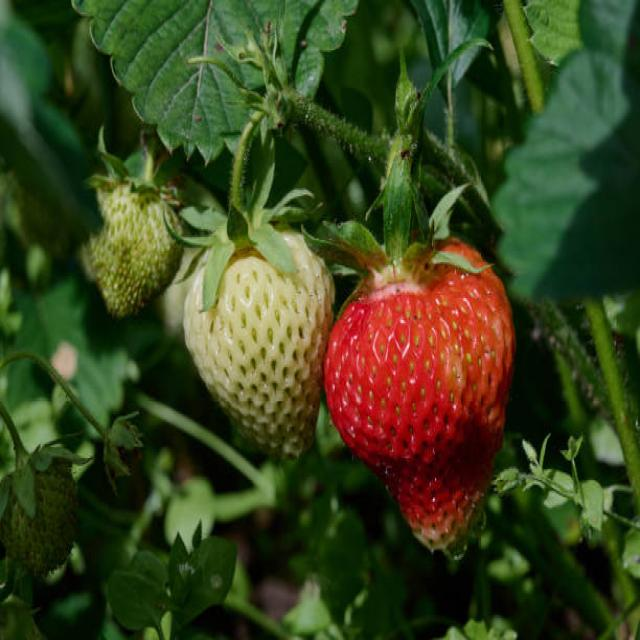Healthy Fruit: (325, 242, 515, 562), (185, 221, 335, 473)
